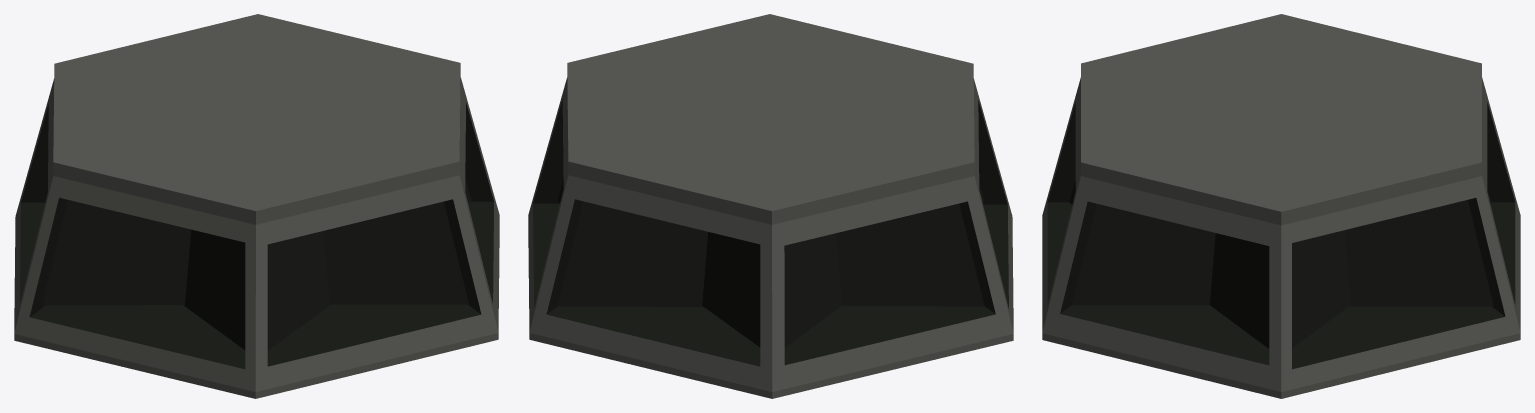
Rendered from Assembler3.fbx.
3 renders of one model, left to right at view 1: azimuth 30°, elevation 25°; view 2: azimuth 150°, elevation 25°; view 3: azimuth 270°, elevation 25°, orthographic.
Parts seen in each view (by area): view 1: Assembler3; view 2: Assembler3; view 3: Assembler3.
Boxes of the visible parts, x1,y1,x2,y2 form: Assembler3: (14, 14, 499, 398); Assembler3: (528, 14, 1013, 398); Assembler3: (1042, 14, 1520, 398).
Size of the model in its own units: 66.46 by 22.09 by 56.95.
